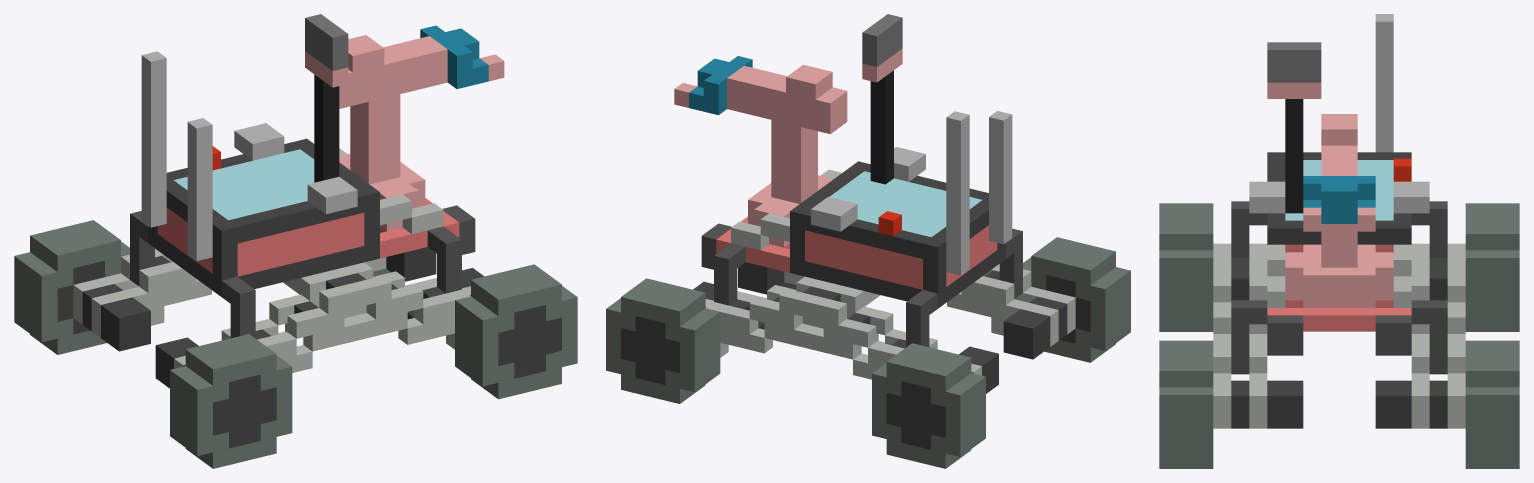
File: prairie_panther.glb
3 renders of one model, left to right at view 1: azimuth 30°, elevation 25°; view 2: azimuth 150°, elevation 25°; view 3: azimuth 270°, elevation 25°, orthographic. The views are drawn at different scales.
Parts seen in each view (by area): view 1: Node; view 2: Node; view 3: Node.
Boxes of the visible parts, bbox=[...] form: Node: bbox=[14, 14, 577, 468]; Node: bbox=[606, 14, 1130, 468]; Node: bbox=[1159, 14, 1519, 468].
Size of the model in its own units: 2.4 by 2.1 by 2.
Materials: 1 (1 with a texture image).
